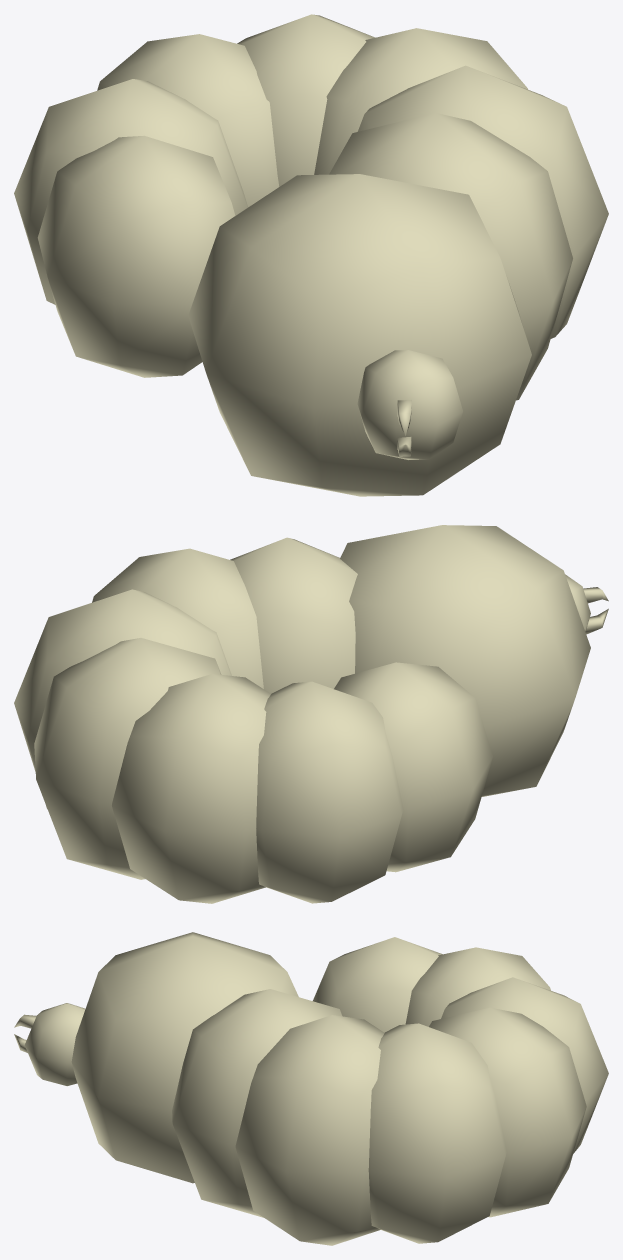
The model's file is ant-larva.glb.
3 views of the same model, one above another, from view 1: azimuth 30°, elevation 25°; view 2: azimuth 150°, elevation 25°; view 3: azimuth 270°, elevation 25° (orthographic). The views are drawn at different scales.
Visible parts, largest first — view 1: Boar; view 2: Boar; view 3: Boar.
Part boxes in pixels (x1,y1,x2,y2): Boar: [14, 14, 608, 496]; Boar: [14, 525, 608, 903]; Boar: [14, 932, 608, 1245].
Bounding box in the file's own units: 5.62 × 3.46 × 7.71.
